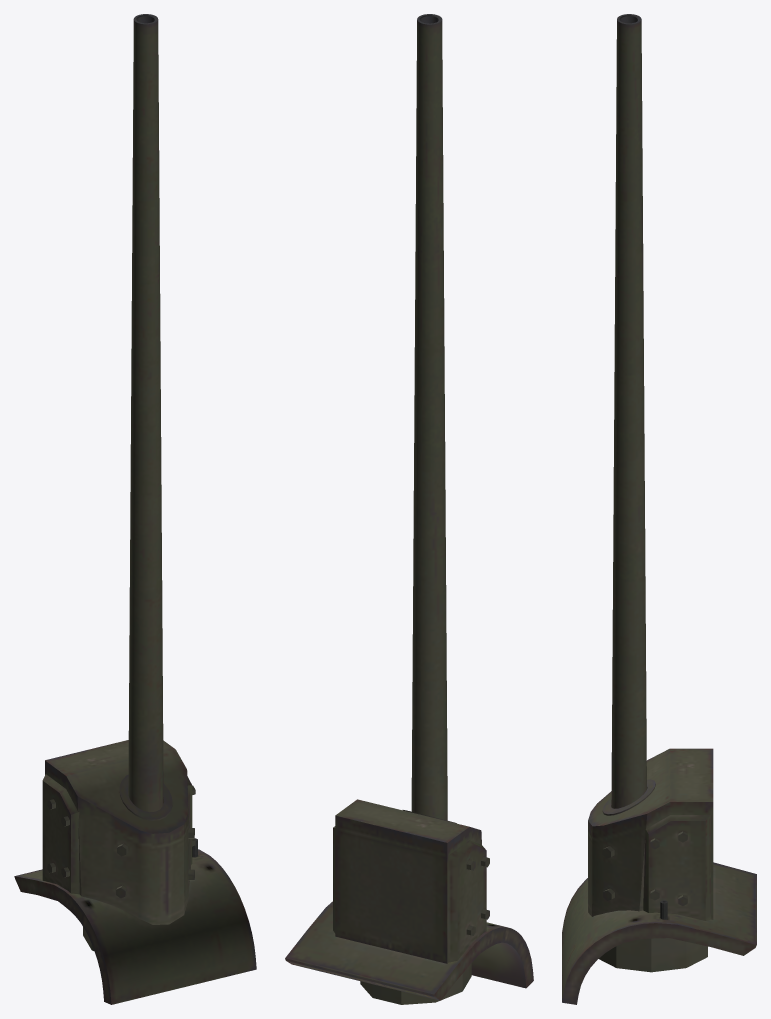
Rendered from Gun_06.glb.
The picture shows the model from 3 angles, left to right: view 1: azimuth 30°, elevation 25°; view 2: azimuth 150°, elevation 25°; view 3: azimuth 270°, elevation 25°; orthographic projection. The views are drawn at different scales.
Parts seen in each view (by area): view 1: set_0_group_0; view 2: set_0_group_0; view 3: set_0_group_0.
Boxes of the visible parts, x1,y1,x2,y2 form: set_0_group_0: (14,14,256,1004); set_0_group_0: (285,14,533,1004); set_0_group_0: (562,14,756,1004).
Size of the model in its own units: 0.5513 by 3.4 by 0.6326.
1 material, 1 textured.
